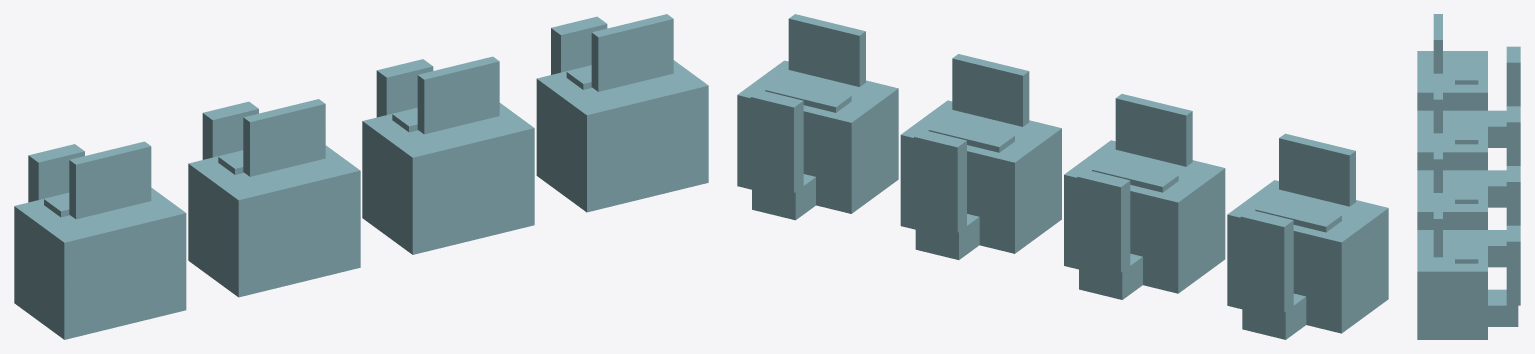
File: SM_Int_Generationship_Hab_Desks.fbx
3 views of the same model, side by side, from view 1: azimuth 30°, elevation 25°; view 2: azimuth 150°, elevation 25°; view 3: azimuth 270°, elevation 25° (orthographic). The views are drawn at different scales.
Parts seen in each view (by area): view 1: SM_Int_Generationship_Hab_Desks; view 2: SM_Int_Generationship_Hab_Desks; view 3: SM_Int_Generationship_Hab_Desks.
Part boxes in pixels (x1,y1,x2,y2): SM_Int_Generationship_Hab_Desks: [14, 14, 708, 339]; SM_Int_Generationship_Hab_Desks: [737, 14, 1388, 339]; SM_Int_Generationship_Hab_Desks: [1417, 14, 1520, 339].
Bounding box in the file's own units: 511 × 101 × 122.
